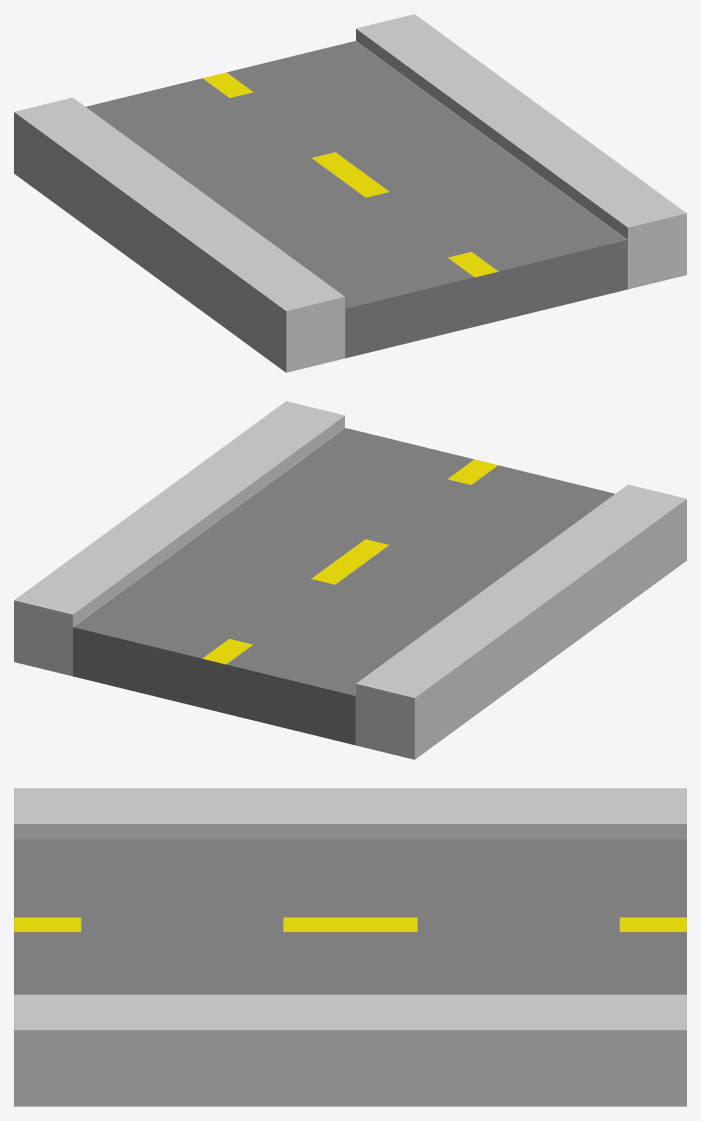
Rendered from road_straight.fbx.
The picture shows the model from 3 angles, top to bottom: view 1: azimuth 30°, elevation 25°; view 2: azimuth 150°, elevation 25°; view 3: azimuth 270°, elevation 25°; orthographic projection. The views are drawn at different scales.
Parts seen in each view (by area): view 1: Cube.005; view 2: Cube.005; view 3: Cube.005.
Part boxes in pixels (<box>): Cube.005: <box>14,14,686,372</box>; Cube.005: <box>14,401,686,759</box>; Cube.005: <box>14,788,686,1106</box>.
Size of the model in its own units: 170 by 25 by 200.
